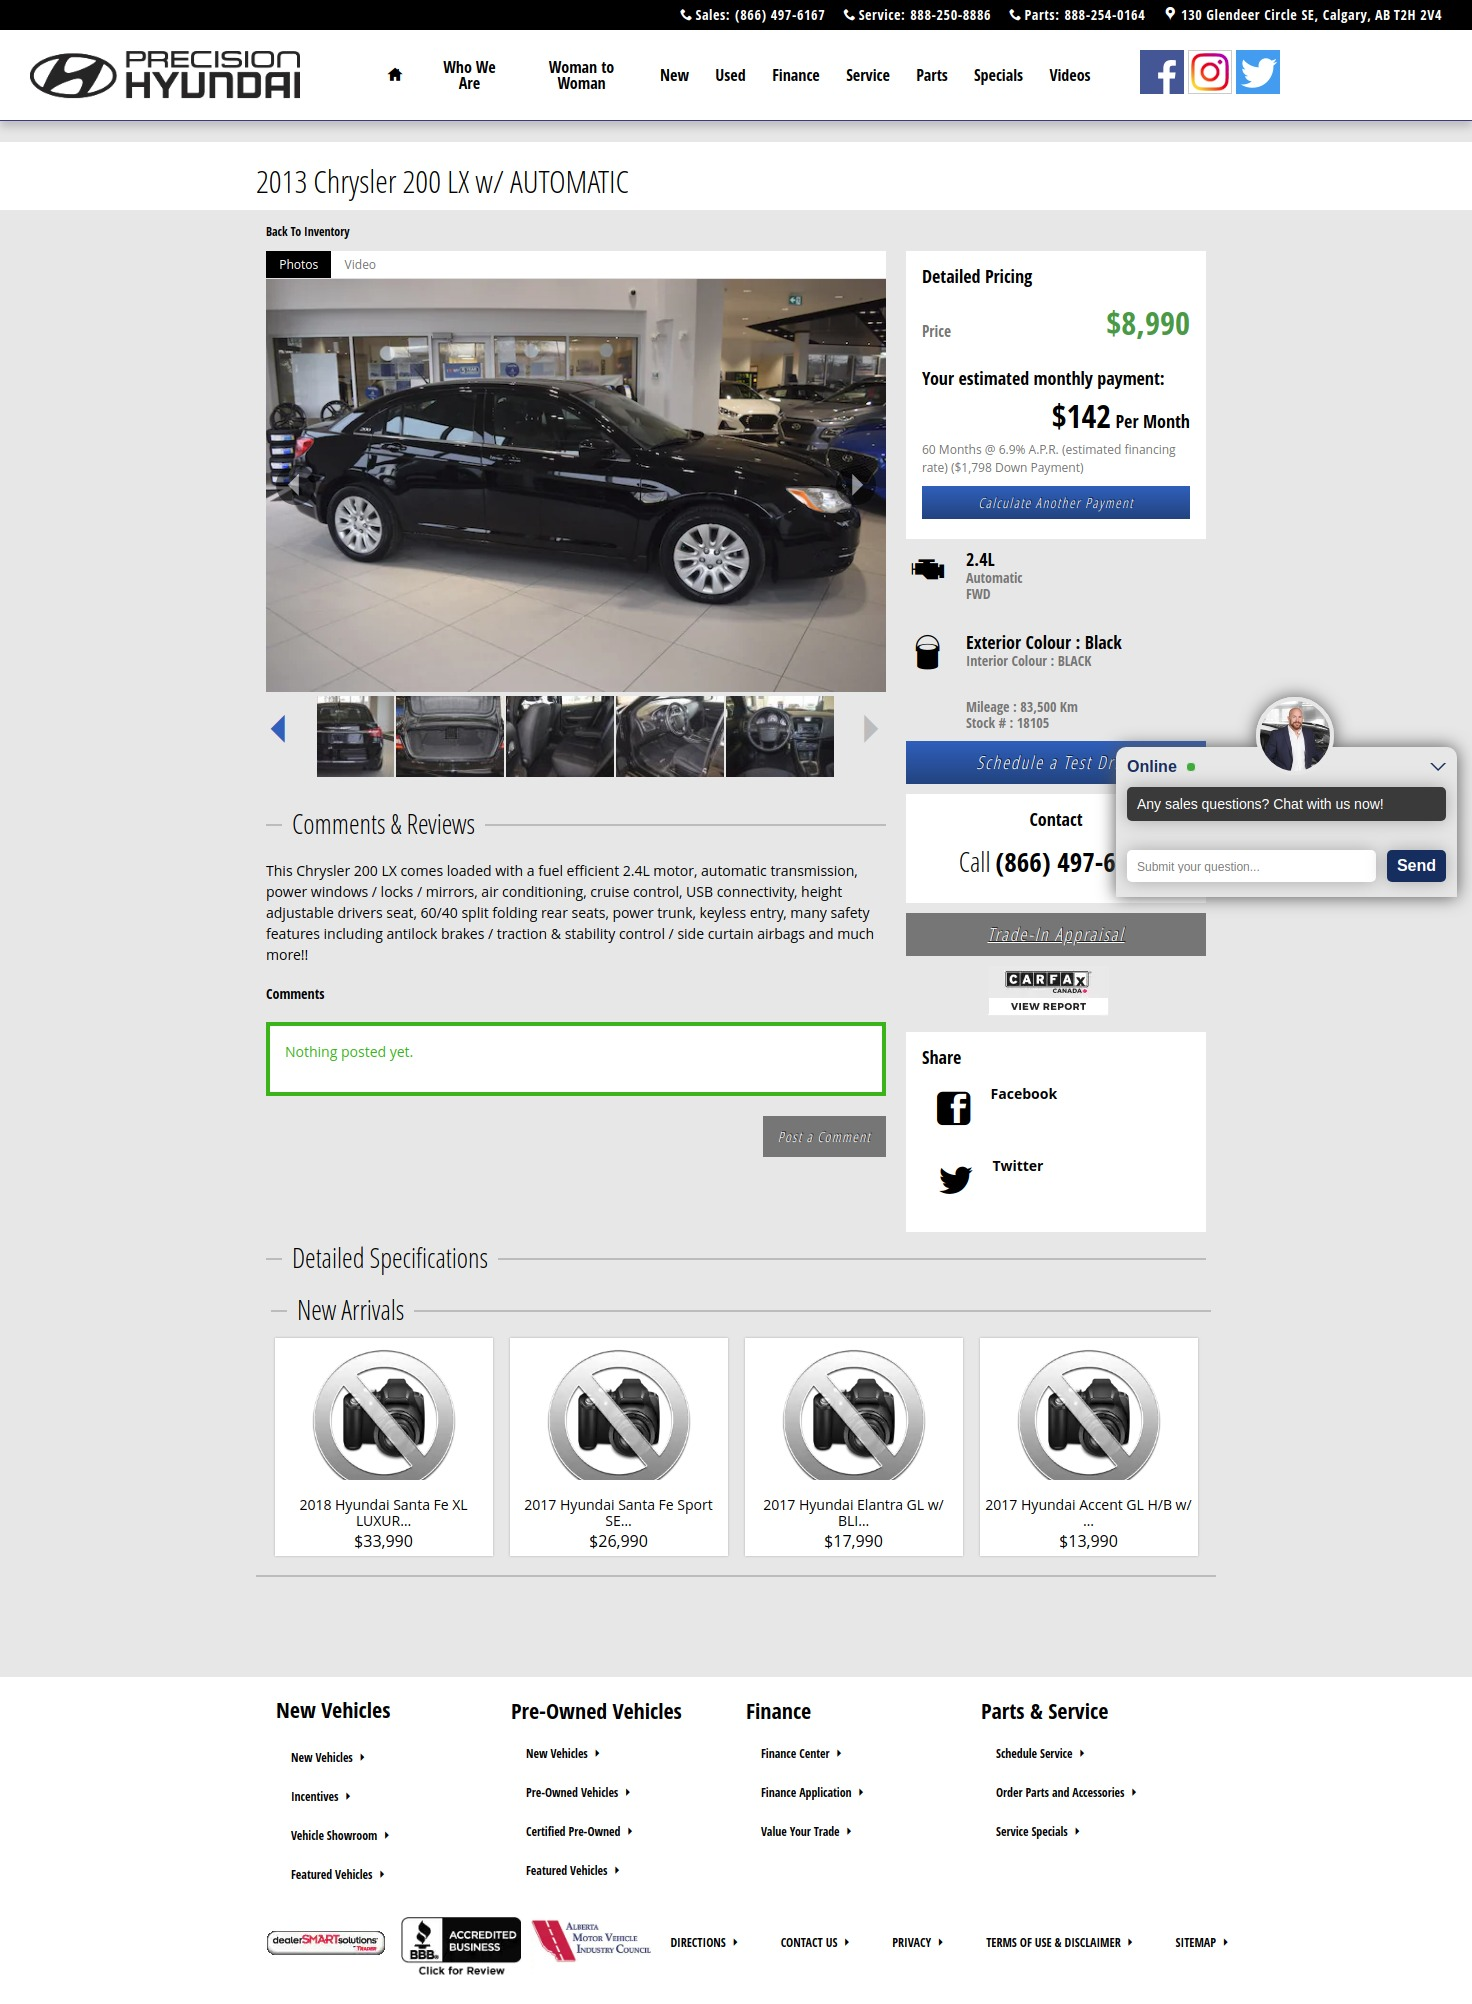car: (864, 716, 881, 744)
